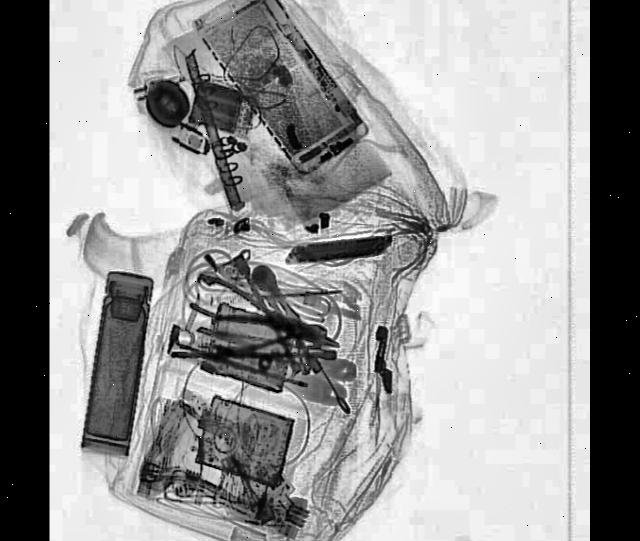Pliers: (189, 268, 346, 362), (215, 309, 330, 354)
